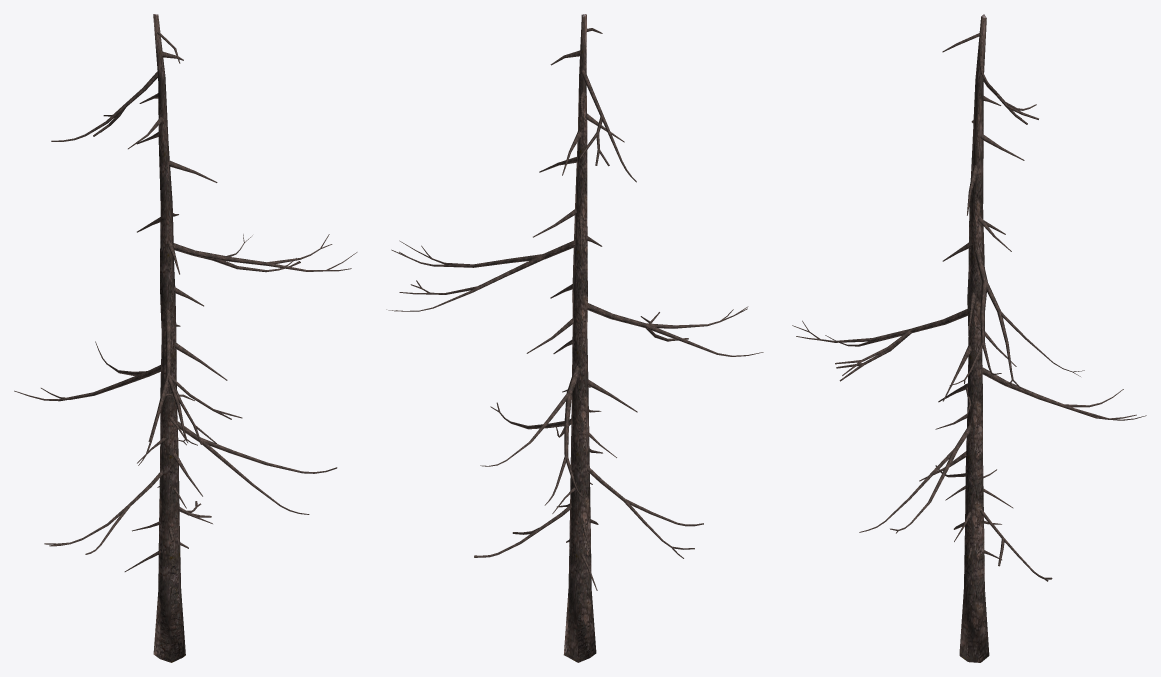
The model's file is A_Coniferous Dead Tree_13.glb.
3 renders of one model, left to right at view 1: azimuth 30°, elevation 25°; view 2: azimuth 150°, elevation 25°; view 3: azimuth 270°, elevation 25°, orthographic.
Visible parts, largest first — view 1: Coniferous Dead Tree_13; view 2: Coniferous Dead Tree_13; view 3: Coniferous Dead Tree_13.
Boxes of the visible parts, x1,y1,x2,y2 form: Coniferous Dead Tree_13: (14,14,357,662); Coniferous Dead Tree_13: (386,14,763,662); Coniferous Dead Tree_13: (792,14,1146,662).
Size of the model in its own units: 7.93 by 16.18 by 8.16.
1 material, 1 textured.
